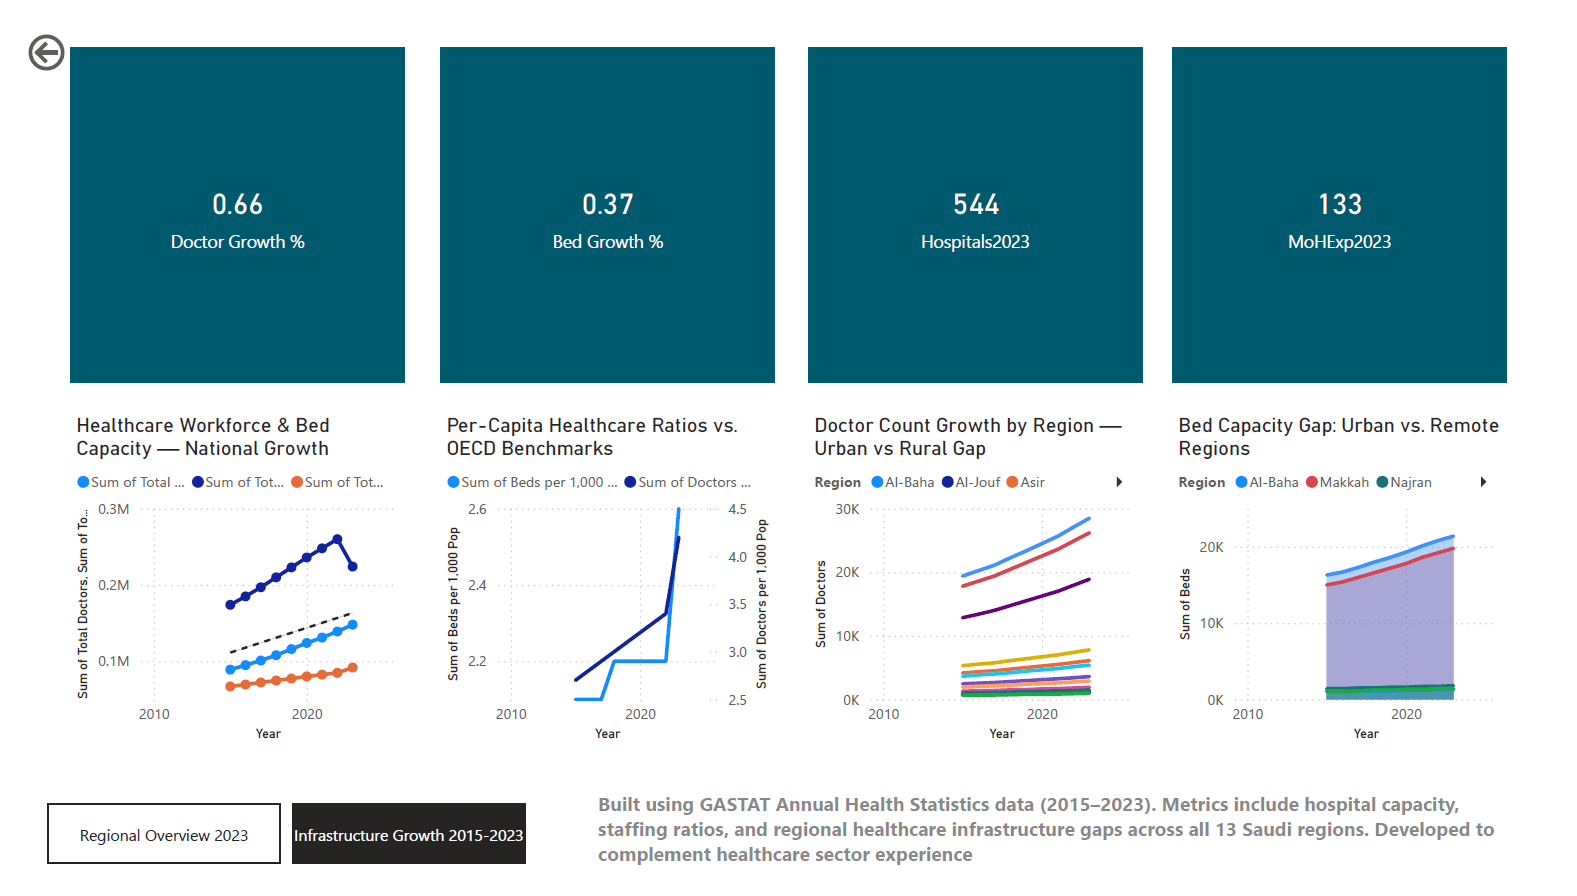

The page's visual inventory and layout, read from the dashboard file:
{"tool":"powerbi","page":{"name":"Infrastructure Growth 2015-2023","canvas":[1280,720],"ordinal":1},"visuals":[{"type":"card","fields":{"Values":["Regional_Snapshot.Doctor Growth %"]},"box":[40.4,15.9,280,280],"z":0},{"type":"card","fields":{"Values":["Regional_Snapshot.Bed Growth %"]},"box":[349.7,15.9,280,280],"z":1000},{"type":"card","fields":{"Values":["Regional_Snapshot.Hospitals2023"]},"box":[657.9,15.9,280,280],"z":2000},{"type":"actionButton","box":[0,0,100,40],"z":3000},{"type":"card","fields":{"Values":["Regional_Snapshot.MoHExp2023"]},"box":[963.3,16.5,279.9,279.9],"z":4000},{"type":"lineChart","title":"Healthcare Workforce & Bed Capacity — National Growth","fields":{"Category":["Time_Series_2015_2023.Year"],"Y":["Sum(Time_Series_2015_2023.Total Doctors)","Sum(Time_Series_2015_2023.Total Nurses)","Sum(Time_Series_2015_2023.Total Beds)"]},"box":[40.4,321.6,280,280],"z":5000},{"type":"lineChart","title":"Doctor Count Growth by Region — Urban vs Rural Gap","fields":{"Category":["Regional_Trend_2015_2023.Year"],"Y":["Sum(Regional_Trend_2015_2023.Doctors)"],"Series":["Regional_Trend_2015_2023.Region"]},"box":[658,322,280,280],"z":7000},{"type":"areaChart","title":"Bed Capacity Gap: Urban vs. Remote Regions","fields":{"Category":["Regional_Trend_2015_2023.Year"],"Y":["Sum(Regional_Trend_2015_2023.Beds)"],"Series":["Regional_Trend_2015_2023.Region"]},"box":[963,322,280,280],"z":8000},{"type":"pageNavigator","box":[20.8,649.3,399.9,50.1],"z":8001},{"type":"textbox","box":[476.9,633.4,788.7,83.2],"z":8002},{"type":"lineChart","title":"Per-Capita Healthcare Ratios vs. OECD Benchmarks","fields":{"Category":["Time_Series_2015_2023.Year"],"Y":["Sum(Time_Series_2015_2023.Beds per 1,000 Pop)"],"Y2":["Sum(Time_Series_2015_2023.Doctors per 1,000 Pop)"]},"box":[350,322,280,280],"z":8003}]}

Visuals, with their boxes in screenshot pixels (x1, y1, x2, y2), scaled from the page's 1280x720 canvas onto the 1577x896 screenshot:
card - Regional_Snapshot.Doctor Growth %: x1=50 y1=20 x2=395 y2=368
card - Regional_Snapshot.Bed Growth %: x1=431 y1=20 x2=776 y2=368
card - Regional_Snapshot.Hospitals2023: x1=811 y1=20 x2=1156 y2=368
actionButton: x1=0 y1=0 x2=123 y2=50
card - Regional_Snapshot.MoHExp2023: x1=1187 y1=21 x2=1532 y2=369
"Healthcare Workforce & Bed Capacity — National Growth" lineChart: x1=50 y1=400 x2=395 y2=749
"Doctor Count Growth by Region — Urban vs Rural Gap" lineChart: x1=811 y1=401 x2=1156 y2=749
"Bed Capacity Gap: Urban vs. Remote Regions" areaChart: x1=1186 y1=401 x2=1531 y2=749
pageNavigator: x1=26 y1=808 x2=518 y2=870
textbox: x1=588 y1=788 x2=1559 y2=892
"Per-Capita Healthcare Ratios vs. OECD Benchmarks" lineChart: x1=431 y1=401 x2=776 y2=749
